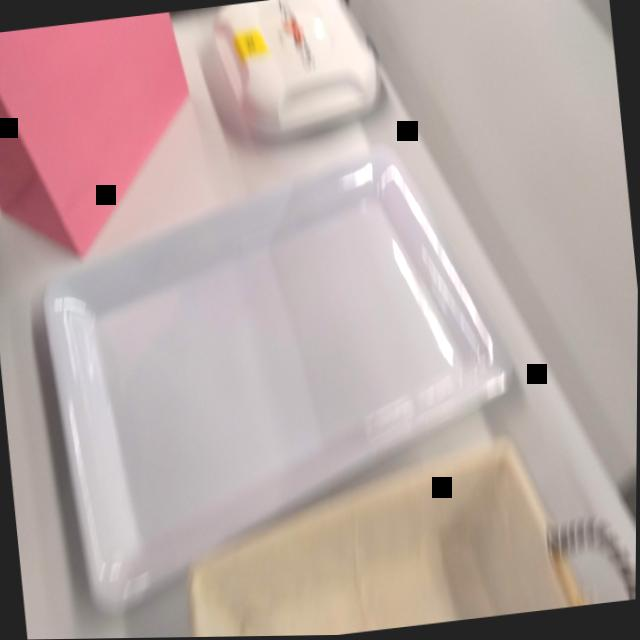tray: (16, 140, 543, 573)
